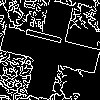I: (25, 25, 72, 50)
